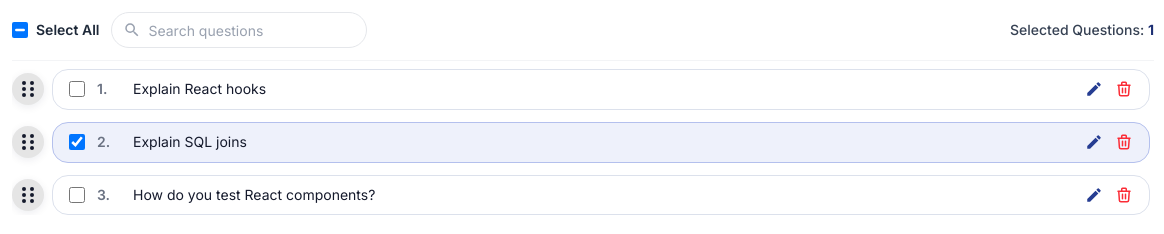
Scenario: QuestionList › shows a no-match state without removing selection
Type "unmatched" into the search field.
click(240, 30); type("unmatched")  # box [112,12,368,48]
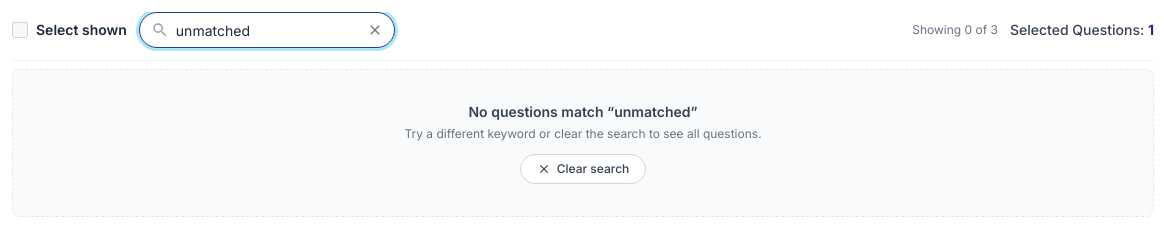
Expected: the text "Selected Questions: 1" is shown, [1010,20,1154,40]
Expected: the text "No questions match “unmatched”" is shown, [468,103,698,120]
Expected: the checkbox labelled "Select shown" is disabled, [12,22,28,38]
